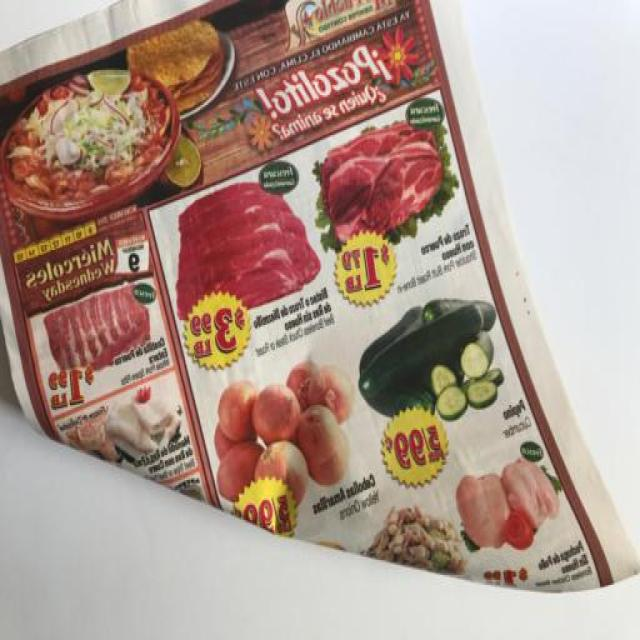paper: (1, 0, 640, 638)
